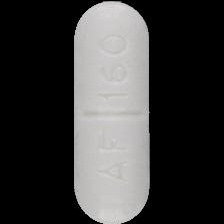60429-392: (0, 0, 224, 224)
